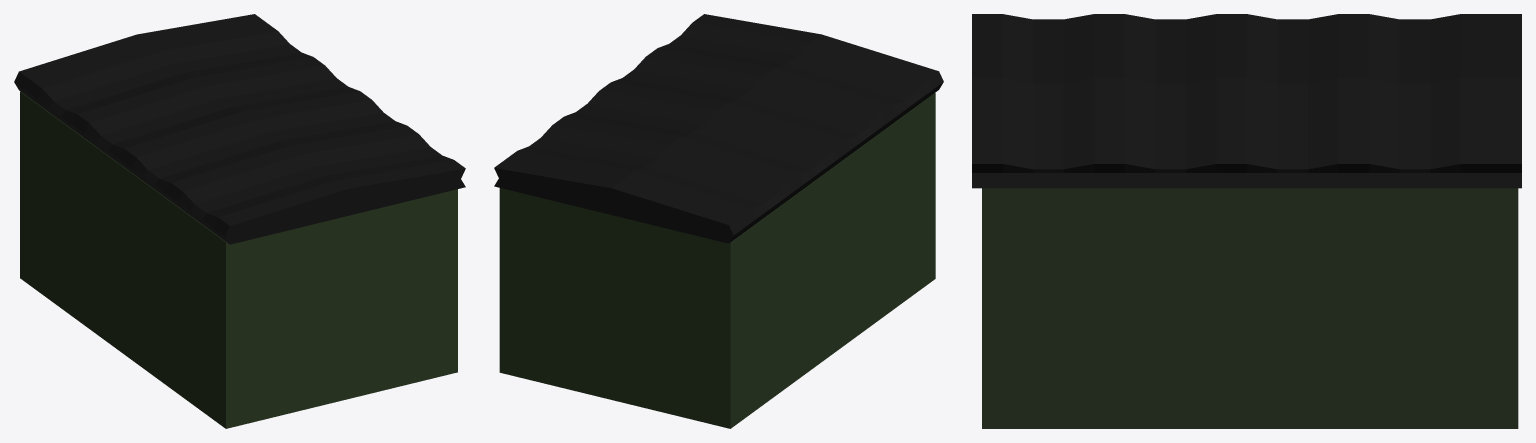
Rendered from SM_Poubelle.FBX.
3 renders of one model, left to right at view 1: azimuth 30°, elevation 25°; view 2: azimuth 150°, elevation 25°; view 3: azimuth 270°, elevation 25°, orthographic. The views are drawn at different scales.
Parts seen in each view (by area): view 1: Poubelle_1, Poubelle Couvercle; view 2: Poubelle_1, Poubelle Couvercle; view 3: Poubelle_1, Poubelle Couvercle.
Boxes of the visible parts, x1=… form: Poubelle_1: x1=20, y1=91, x2=457, y2=428; Poubelle Couvercle: x1=14, y1=14, x2=465, y2=244; Poubelle_1: x1=499, y1=93, x2=935, y2=428; Poubelle Couvercle: x1=494, y1=14, x2=943, y2=243; Poubelle_1: x1=982, y1=188, x2=1518, y2=428; Poubelle Couvercle: x1=972, y1=14, x2=1521, y2=188.
Bounding box in the file's own units: 135 × 115 × 205.
